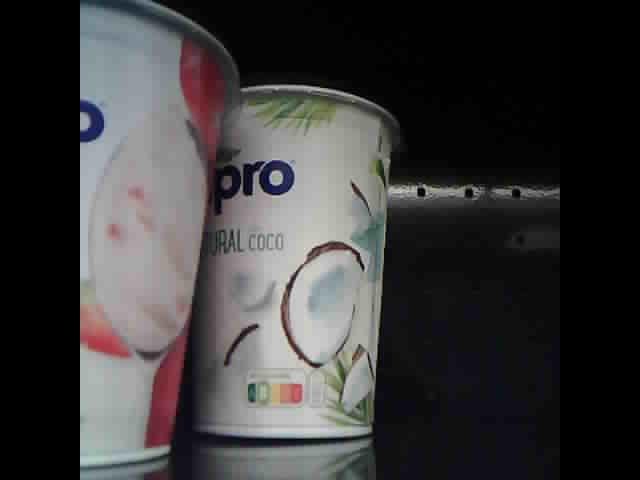alpro: (187, 82, 400, 441), (79, 1, 235, 467)
